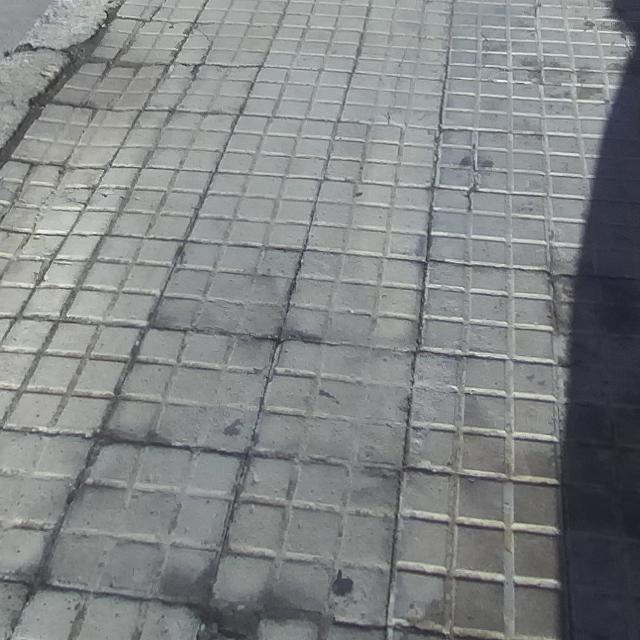calcada_quebrada: (0, 164, 35, 225), (65, 110, 100, 167), (193, 24, 213, 44)
